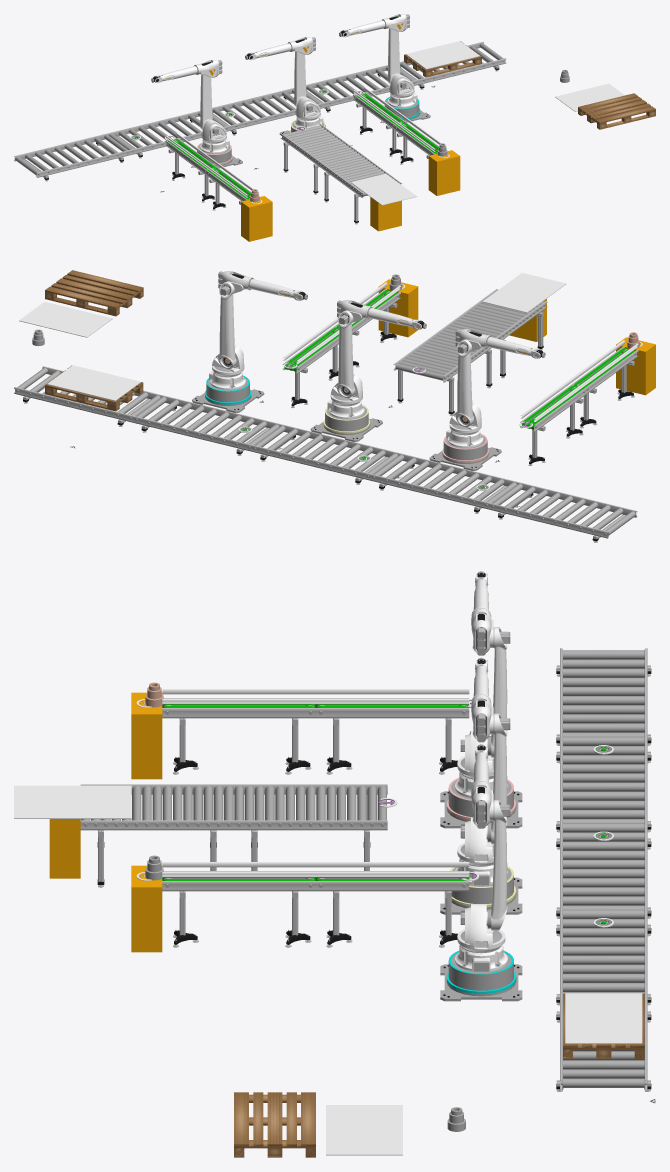
File: assmbly_depalletizing.glb
The picture shows the model from 3 angles, top to bottom: view 1: azimuth 30°, elevation 25°; view 2: azimuth 150°, elevation 25°; view 3: azimuth 270°, elevation 25°; orthographic projection. The views are drawn at different scales.
Visible parts, largest first — view 1: Mesh_0E8g, Mesh_00Eg, Mesh_0Ccg, Mesh_00cg, Mesh_0BVg, Mesh_00Rg, Mesh_08ag, Mesh_0Bqg, Mesh_01Ig, Mesh_04ag, Mesh_0DPg, Mesh_0DEg (+5 smaller); view 2: Mesh_0BVg, Mesh_0Ccg, Mesh_00cg, Mesh_00Eg, Mesh_0E8g, Mesh_0Acg, Mesh_05dg, Mesh_02Lg, Mesh_0Brg, Mesh_08bg, Mesh_04ag, Mesh_0DPg (+20 smaller); view 3: Mesh_00cg, Mesh_0Ccg, Mesh_0BVg, Mesh_00Eg, Mesh_0E8g, Mesh_00Rg, Mesh_03Ug, Mesh_097g, Mesh_02yg, Mesh_09qg, Mesh_07cg, Mesh_06gg (+18 smaller).
Part boxes in pixels (box(x1,y1,x2,y2)): Mesh_0E8g: box(428, 150, 460, 195); Mesh_00Eg: box(241, 196, 272, 241); Mesh_0Ccg: box(406, 41, 479, 69); Mesh_00cg: box(351, 173, 417, 205); Mesh_0BVg: box(555, 83, 624, 111); Mesh_00Rg: box(370, 197, 401, 231); Mesh_08ag: box(36, 150, 130, 177); Mesh_0Bqg: box(412, 58, 506, 85); Mesh_01Ig: box(200, 74, 212, 119); Mesh_04ag: box(294, 51, 306, 96); Mesh_0DPg: box(388, 28, 400, 73); Mesh_0DEg: box(389, 74, 414, 97); Mesh_0BVg: box(19, 301, 112, 337); Mesh_0Ccg: box(47, 365, 140, 400); Mesh_00cg: box(482, 272, 566, 312); Mesh_00Eg: box(616, 337, 655, 395); Mesh_0E8g: box(378, 279, 418, 337); Mesh_0Acg: box(132, 416, 252, 451); Mesh_05dg: box(251, 445, 371, 480); Mesh_02Lg: box(370, 474, 489, 509); Mesh_0Brg: box(14, 387, 133, 422); Mesh_08bg: box(489, 503, 608, 538); Mesh_04ag: box(338, 326, 353, 384); Mesh_0DPg: box(219, 297, 234, 355); Mesh_00cg: box(14, 785, 131, 818); Mesh_0Ccg: box(565, 993, 642, 1043); Mesh_0BVg: box(326, 1105, 402, 1155); Mesh_00Eg: box(131, 692, 162, 779); Mesh_0E8g: box(131, 865, 162, 952); Mesh_00Rg: box(49, 819, 80, 878); Mesh_03Ug: box(315, 708, 469, 718); Mesh_097g: box(315, 881, 469, 891); Mesh_02yg: box(162, 708, 315, 718); Mesh_09qg: box(162, 881, 315, 891); Mesh_07cg: box(234, 820, 387, 830); Mesh_06gg: box(80, 820, 233, 830).
Size of the model in its own units: 11.36 by 2.54 by 6.28.
Materials: 21 (1 with a texture image).
